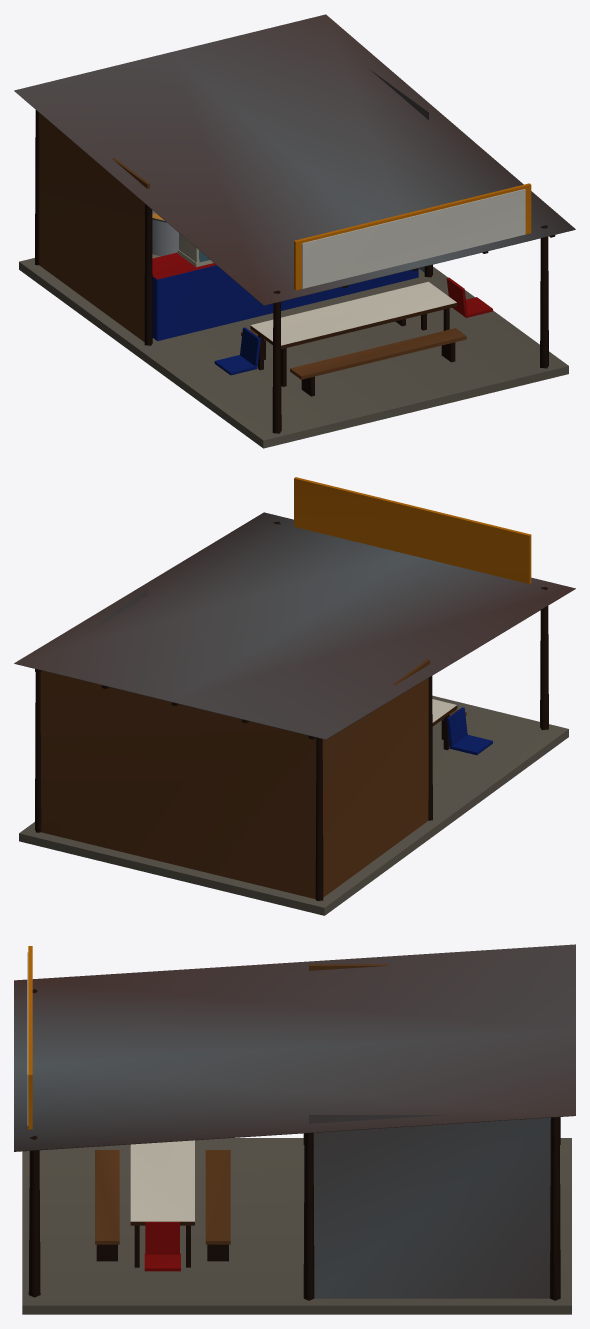
The model's file is bk_buka_lod1.glb.
3 renders of one model, top to bottom at view 1: azimuth 30°, elevation 25°; view 2: azimuth 150°, elevation 25°; view 3: azimuth 270°, elevation 25°, orthographic. The views are drawn at different scales.
Visible parts, largest first — view 1: bk_buka_lod1; view 2: bk_buka_lod1; view 3: bk_buka_lod1.
Part boxes in pixels (x1,y1,x2,y2): bk_buka_lod1: (14,14,575,448); bk_buka_lod1: (14,477,575,915); bk_buka_lod1: (14,944,575,1314).
Bounding box in the file's own units: 4.9 × 2.94 × 6.8.
